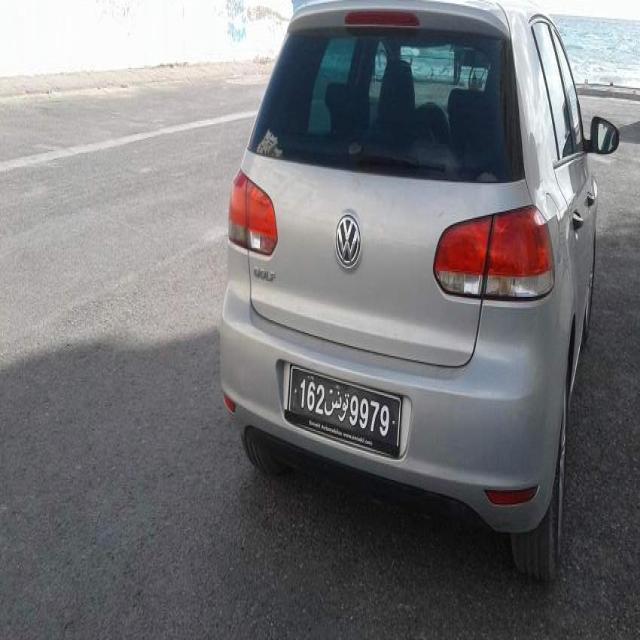licence plate: (289, 368, 399, 446)
